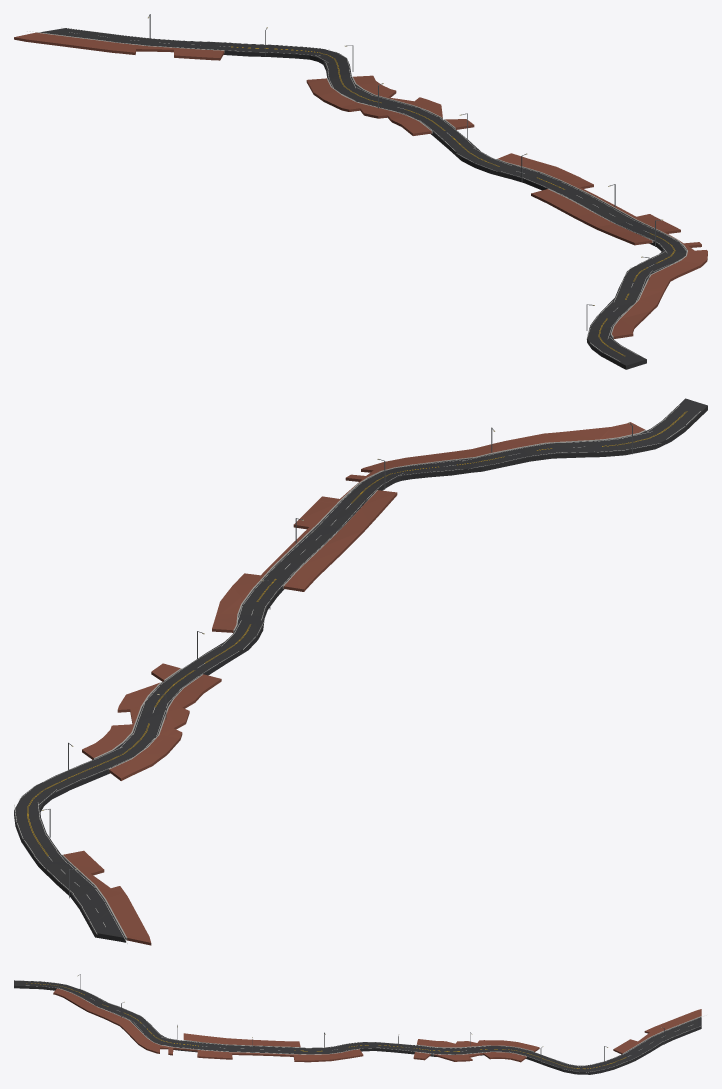
Rendered from 17-109447-59453.7f6bee4e.glb.
3 views of the same model, one above another, from view 1: azimuth 30°, elevation 25°; view 2: azimuth 150°, elevation 25°; view 3: azimuth 270°, elevation 25° (orthographic). The views are drawn at different scales.
Bounding box in the file's own units: 76.3 × 27.74 × 294.
